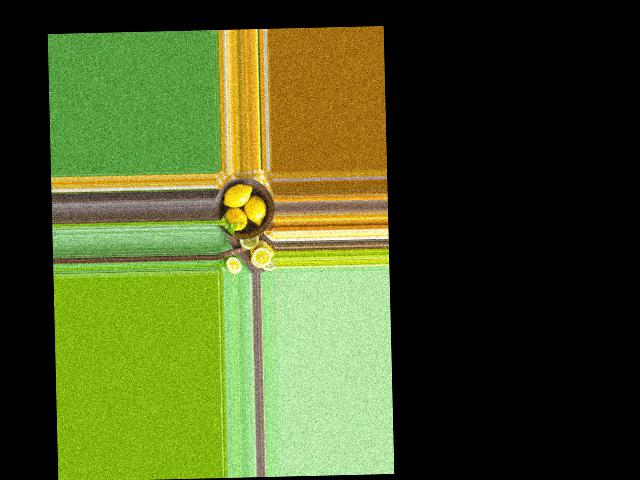lemon: (219, 180, 254, 210)
